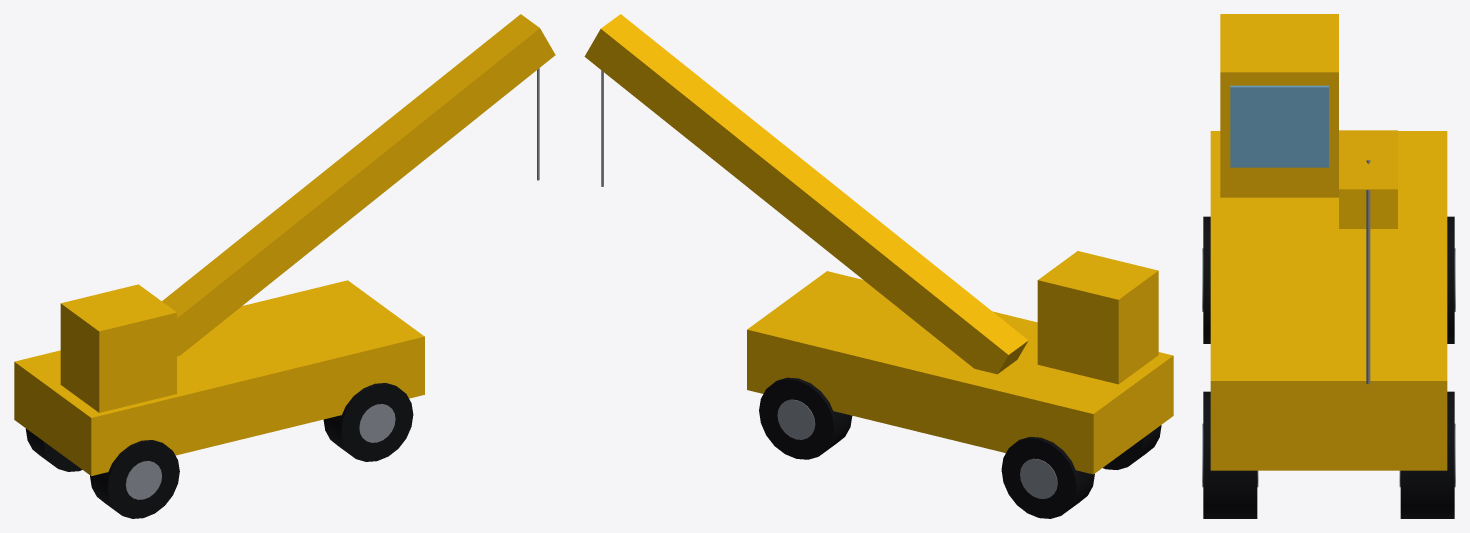
File: pick-and-carry-crane.glb
3 views of the same model, side by side, from view 1: azimuth 30°, elevation 25°; view 2: azimuth 150°, elevation 25°; view 3: azimuth 270°, elevation 25° (orthographic). The views are drawn at different scales.
Bounding box in the file's own units: 9.1 × 6.02 × 2.57.
